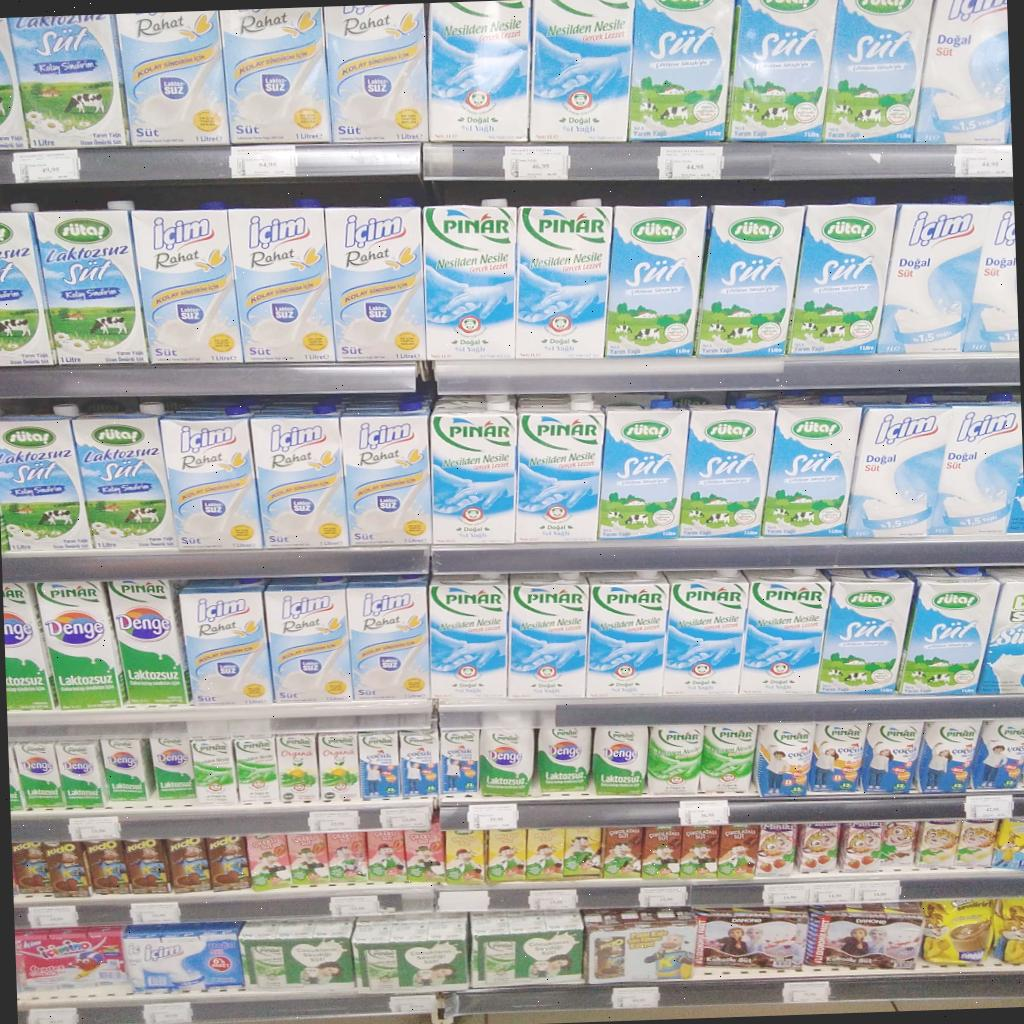price_tag: (503, 145, 570, 180), (658, 146, 723, 180), (230, 145, 296, 178), (14, 150, 80, 183), (955, 145, 1012, 177), (678, 798, 729, 826), (380, 805, 432, 831), (468, 803, 518, 830), (68, 816, 121, 841), (965, 794, 1013, 820), (309, 808, 358, 832), (329, 895, 380, 918), (28, 905, 78, 928), (437, 890, 489, 912), (131, 902, 180, 925), (856, 880, 901, 904), (763, 884, 810, 906), (143, 1002, 192, 1023), (639, 887, 687, 908), (783, 982, 830, 1003), (613, 987, 660, 1008), (529, 890, 577, 910), (389, 994, 437, 1013), (809, 885, 856, 904), (29, 1007, 78, 1023)
product: (34, 209, 148, 364), (132, 208, 242, 363), (228, 203, 335, 362), (787, 202, 896, 354), (695, 204, 804, 356), (877, 203, 987, 353), (8, 14, 128, 147), (604, 204, 706, 358), (514, 200, 611, 359), (726, 0, 836, 140), (824, 0, 931, 142), (325, 205, 423, 360), (117, 10, 228, 146), (221, 6, 330, 143), (529, 0, 632, 144), (628, 0, 733, 141), (422, 199, 515, 358), (846, 397, 950, 537), (160, 409, 262, 549), (428, 0, 529, 141), (325, 3, 427, 142), (252, 403, 348, 548), (915, 0, 1010, 144), (72, 415, 174, 548), (762, 403, 860, 536), (680, 400, 774, 538), (341, 399, 430, 544), (930, 395, 1022, 535), (430, 395, 517, 543), (897, 567, 998, 694), (515, 396, 603, 541), (598, 400, 689, 538), (0, 415, 92, 551), (180, 579, 273, 706), (818, 569, 913, 693), (35, 581, 125, 709), (739, 568, 829, 695), (662, 569, 749, 696), (264, 577, 351, 702), (106, 578, 189, 705), (587, 571, 669, 697), (345, 576, 428, 700), (429, 575, 508, 699), (508, 573, 587, 696), (351, 913, 468, 993), (470, 911, 583, 988), (0, 212, 56, 366), (963, 203, 1018, 352), (239, 920, 354, 990), (123, 924, 243, 991), (582, 910, 695, 981), (805, 902, 922, 970), (15, 928, 124, 991), (2, 583, 56, 710), (692, 909, 806, 968), (977, 568, 1024, 694), (917, 720, 980, 792), (922, 899, 992, 963), (862, 720, 922, 793), (755, 722, 813, 796), (809, 722, 866, 792), (699, 723, 756, 792), (591, 726, 647, 795), (478, 728, 533, 797), (971, 718, 1024, 789), (647, 724, 701, 793), (536, 728, 590, 794), (55, 741, 108, 808), (100, 737, 154, 802), (14, 742, 64, 807), (275, 734, 320, 801), (148, 736, 195, 800), (233, 737, 279, 802), (192, 738, 237, 804), (317, 733, 360, 800), (357, 731, 399, 798), (43, 841, 90, 897), (438, 729, 478, 794), (84, 839, 131, 894), (246, 834, 291, 891), (399, 730, 438, 795), (125, 838, 170, 893), (167, 836, 211, 892), (208, 835, 250, 891), (717, 824, 758, 879), (915, 819, 961, 868), (445, 830, 485, 885), (840, 821, 883, 872), (287, 832, 329, 884), (756, 824, 796, 878), (796, 822, 839, 872), (486, 829, 525, 884), (602, 827, 643, 879), (404, 828, 444, 881), (641, 825, 681, 878), (326, 831, 366, 883), (366, 829, 406, 881), (525, 827, 564, 880), (993, 897, 1024, 963), (956, 819, 998, 867), (11, 842, 50, 893), (563, 827, 601, 879), (681, 827, 719, 879), (877, 820, 918, 868), (991, 818, 1024, 870)
